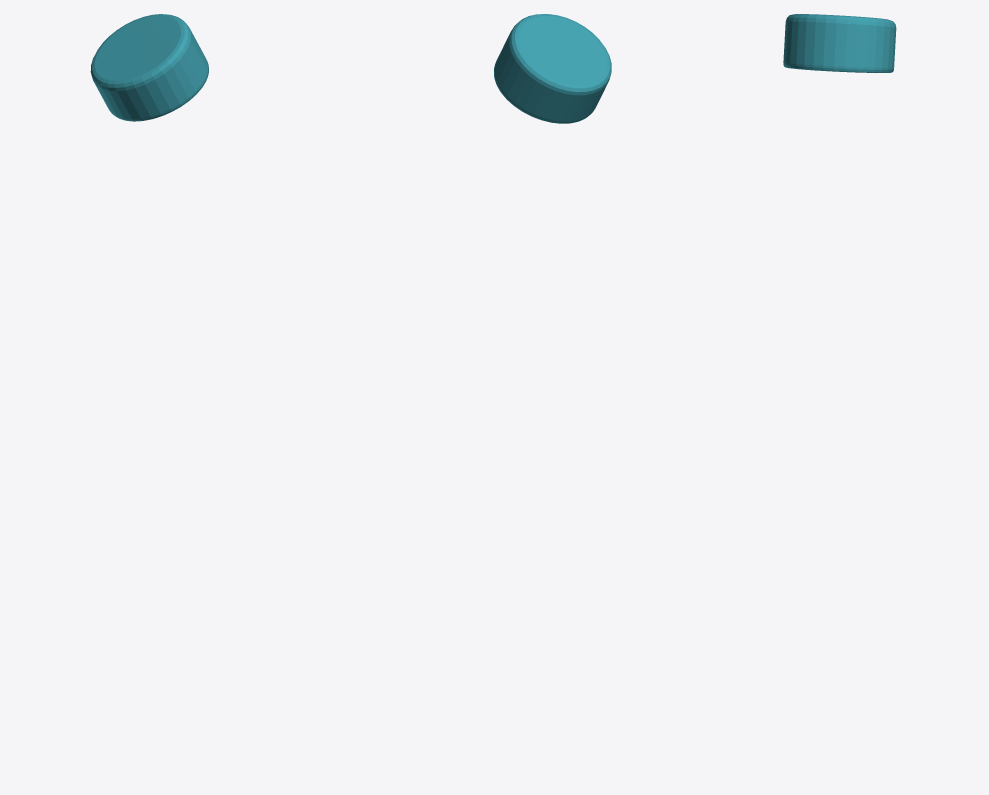
Rendered from bend_high_0.obj.
3 views of the same model, side by side, from view 1: azimuth 30°, elevation 25°; view 2: azimuth 150°, elevation 25°; view 3: azimuth 270°, elevation 25° (orthographic).
Parts seen in each view (by area): view 1: model; view 2: model; view 3: model.
Boxes of the visible parts, <box> form: model: <box>90,14,208,121</box>; model: <box>494,14,611,123</box>; model: <box>783,14,896,72</box>.
Bounding box in the file's own units: 0.1036 × 0.2604 × 0.0831.
1 material, 1 textured.
